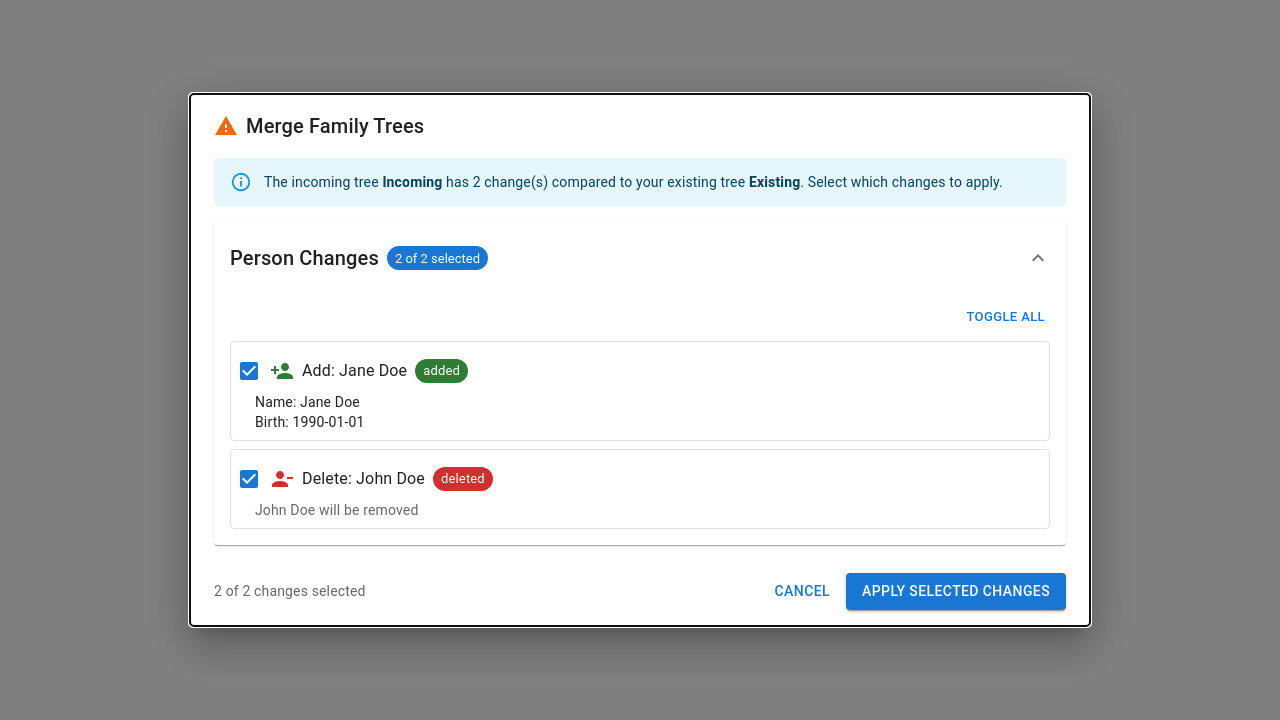
Test: TreeMergeDialog › disables Apply button when no changes are selected
Expected: the button "Apply Selected Changes" is enabled, x1=846 y1=573 x2=1066 y2=610
Click the checkbox labelled "Add: Jane Doe added": (352, 371) x1=237 y1=359 x2=468 y2=383
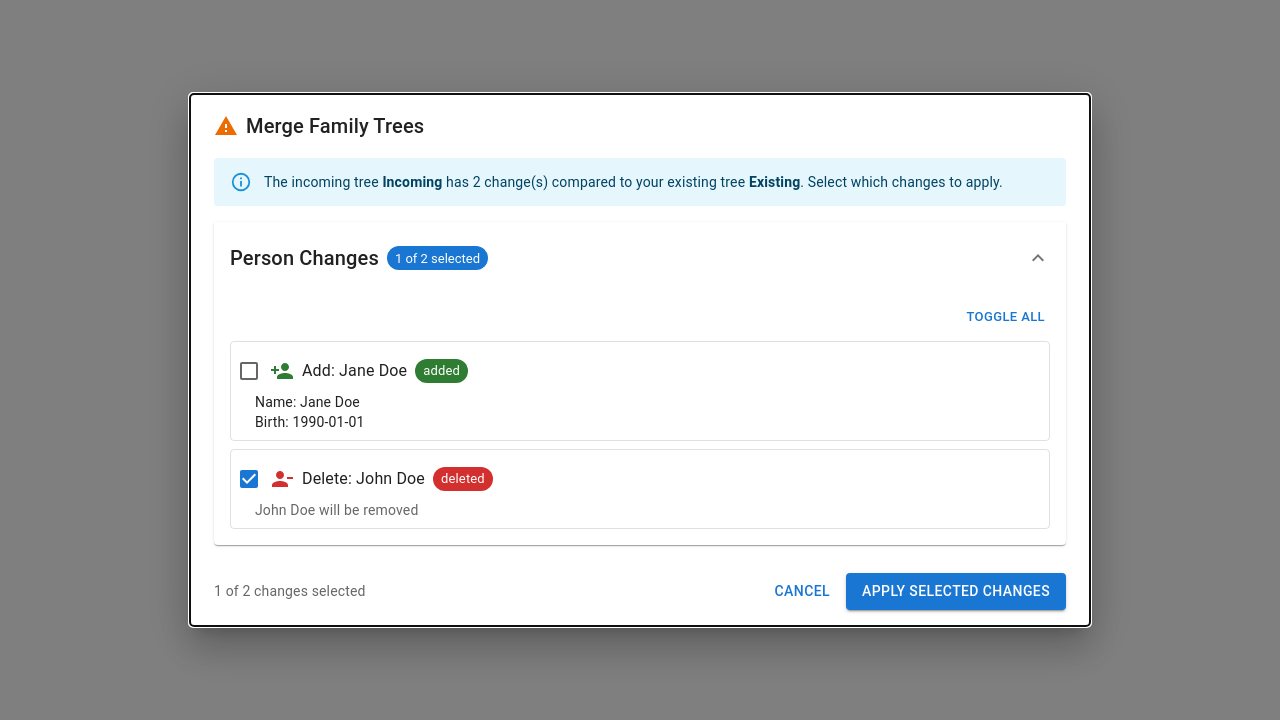
Click the checkbox labelled "Delete: John Doe deleted": (365, 479) x1=237 y1=467 x2=493 y2=491
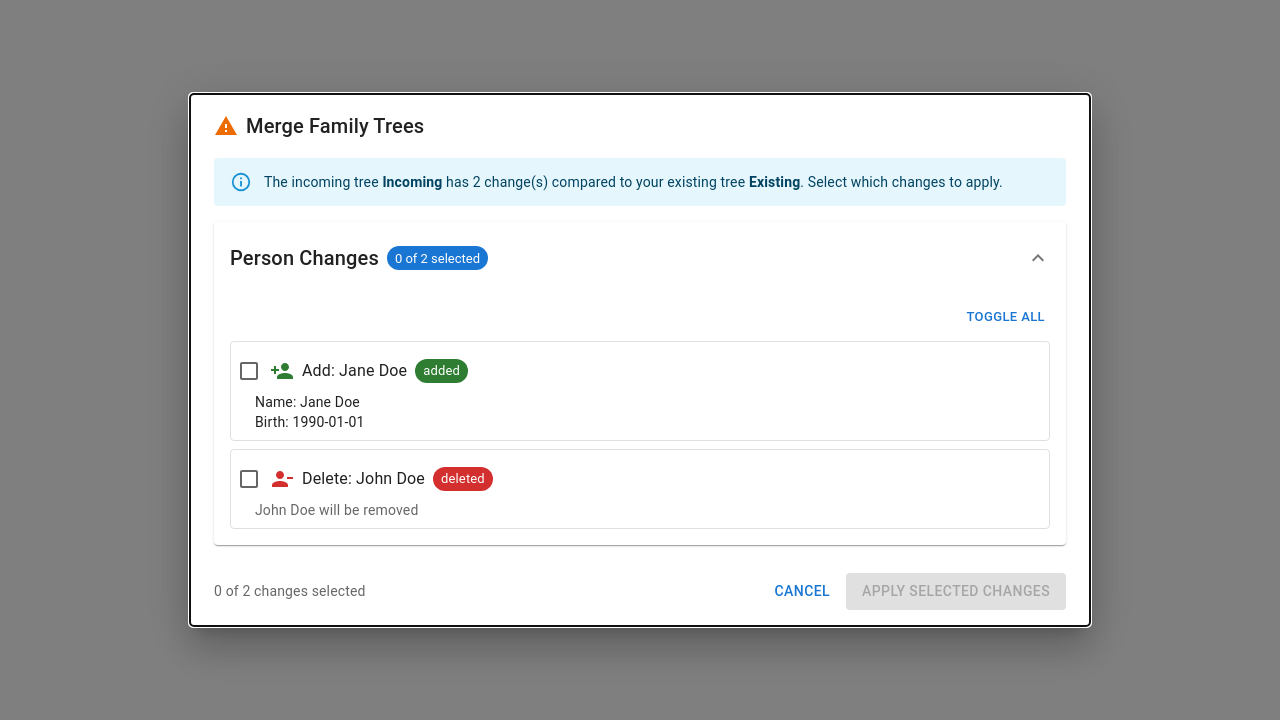
Now the button "Apply Selected Changes" is disabled, box x1=846 y1=573 x2=1066 y2=610
